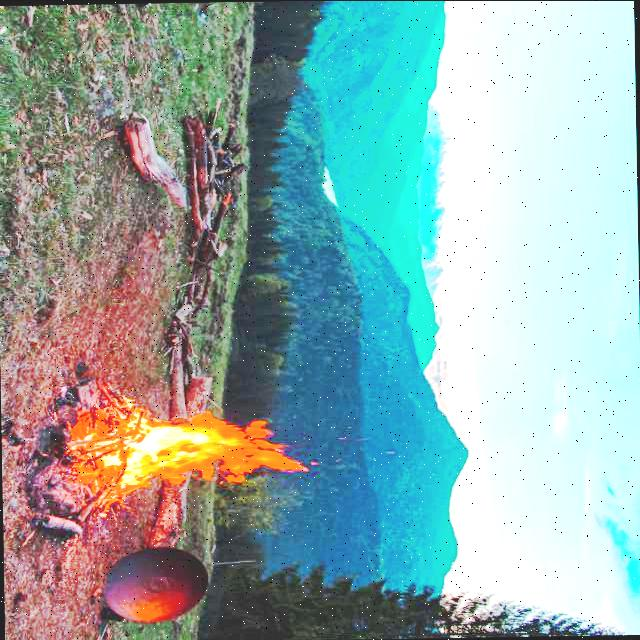api: (61, 402, 315, 509)
